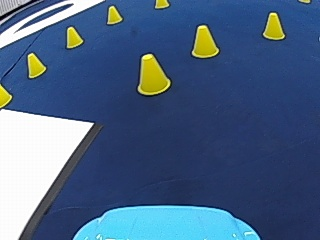cone: (135, 52, 170, 95), (190, 23, 219, 57), (261, 11, 284, 40), (26, 52, 45, 77), (65, 25, 82, 47), (106, 5, 122, 24), (0, 83, 11, 108), (155, 0, 168, 9)
